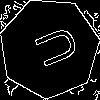U: (24, 23, 80, 74)
